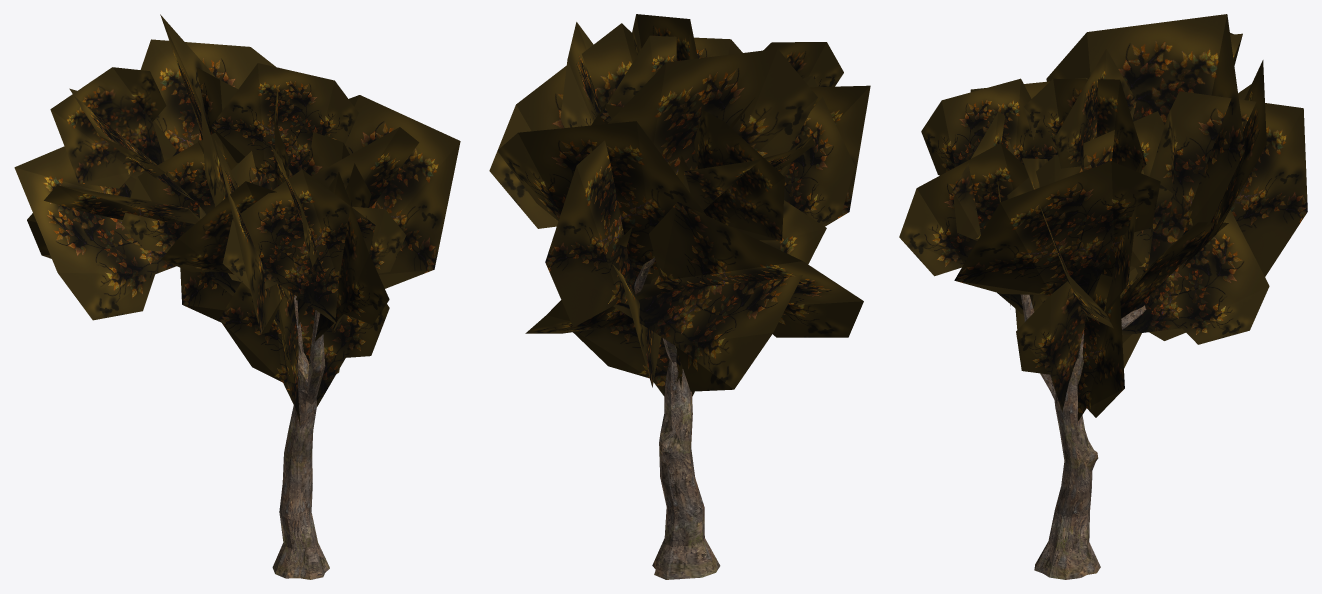
Rendered from tree_1.dae.
3 views of the same model, side by side, from view 1: azimuth 30°, elevation 25°; view 2: azimuth 150°, elevation 25°; view 3: azimuth 270°, elevation 25° (orthographic). The views are drawn at different scales.
Parts seen in each view (by area): view 1: Mesh_Object; view 2: Mesh_Object; view 3: Mesh_Object.
Part boxes in pixels (x1,y1,x2,y2): Mesh_Object: [14, 14, 460, 579]; Mesh_Object: [489, 14, 870, 579]; Mesh_Object: [899, 14, 1307, 579].
Bounding box in the file's own units: 4.4 × 6.13 × 4.35.
